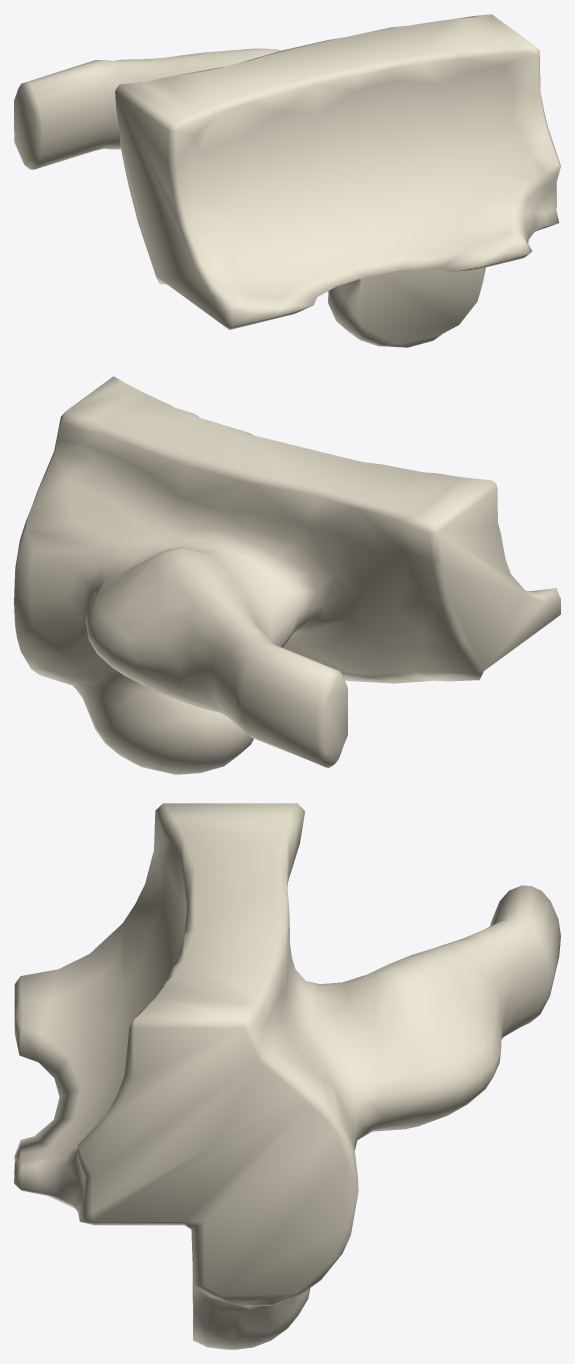
File: temporal_r.glb
The picture shows the model from 3 angles, top to bottom: view 1: azimuth 30°, elevation 25°; view 2: azimuth 150°, elevation 25°; view 3: azimuth 270°, elevation 25°; orthographic projection. The views are drawn at different scales.
Parts seen in each view (by area): view 1: geometry_0; view 2: geometry_0; view 3: geometry_0.
Part boxes in pixels (bbox=[...]): geometry_0: bbox=[14, 14, 560, 347]; geometry_0: bbox=[14, 376, 560, 774]; geometry_0: bbox=[14, 803, 560, 1349].
Size of the model in its own units: 0.205 by 0.1628 by 0.215.
